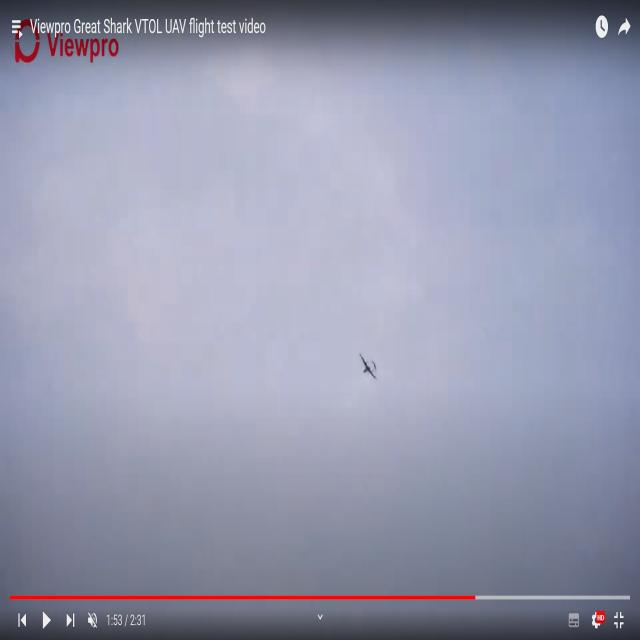iha: (358, 349, 378, 381)
